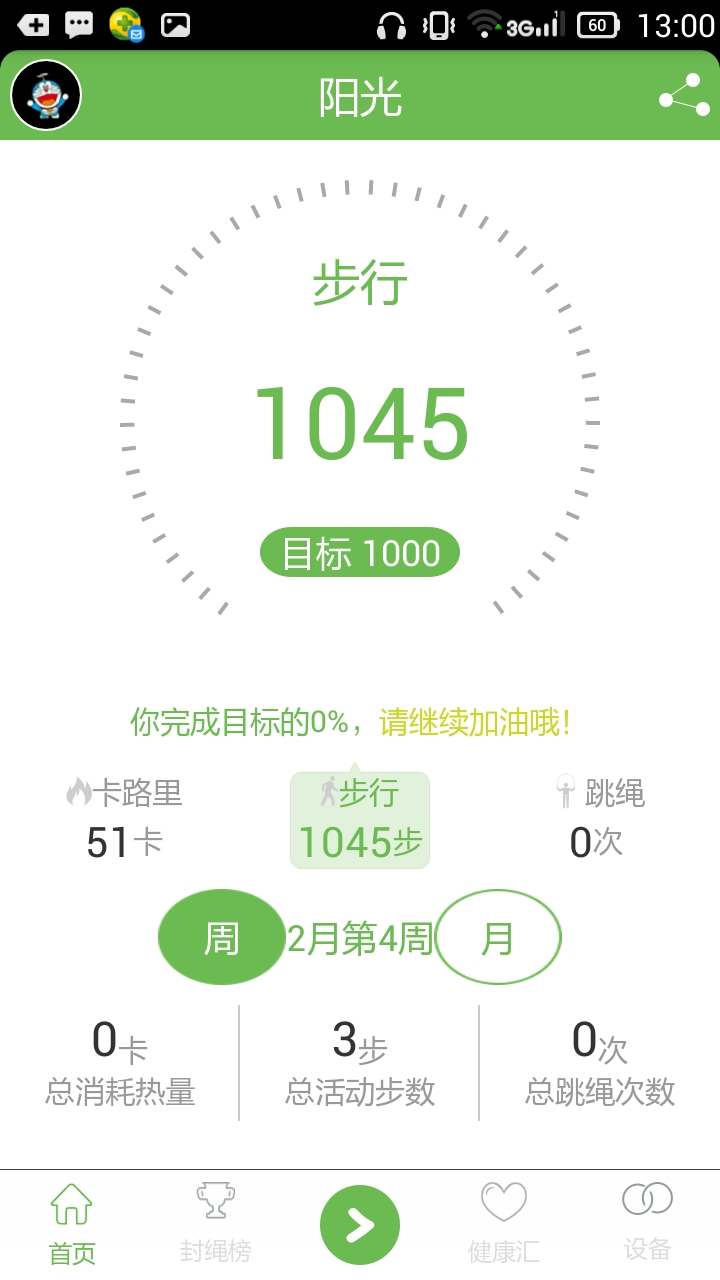textview: (240, 244, 489, 481)
